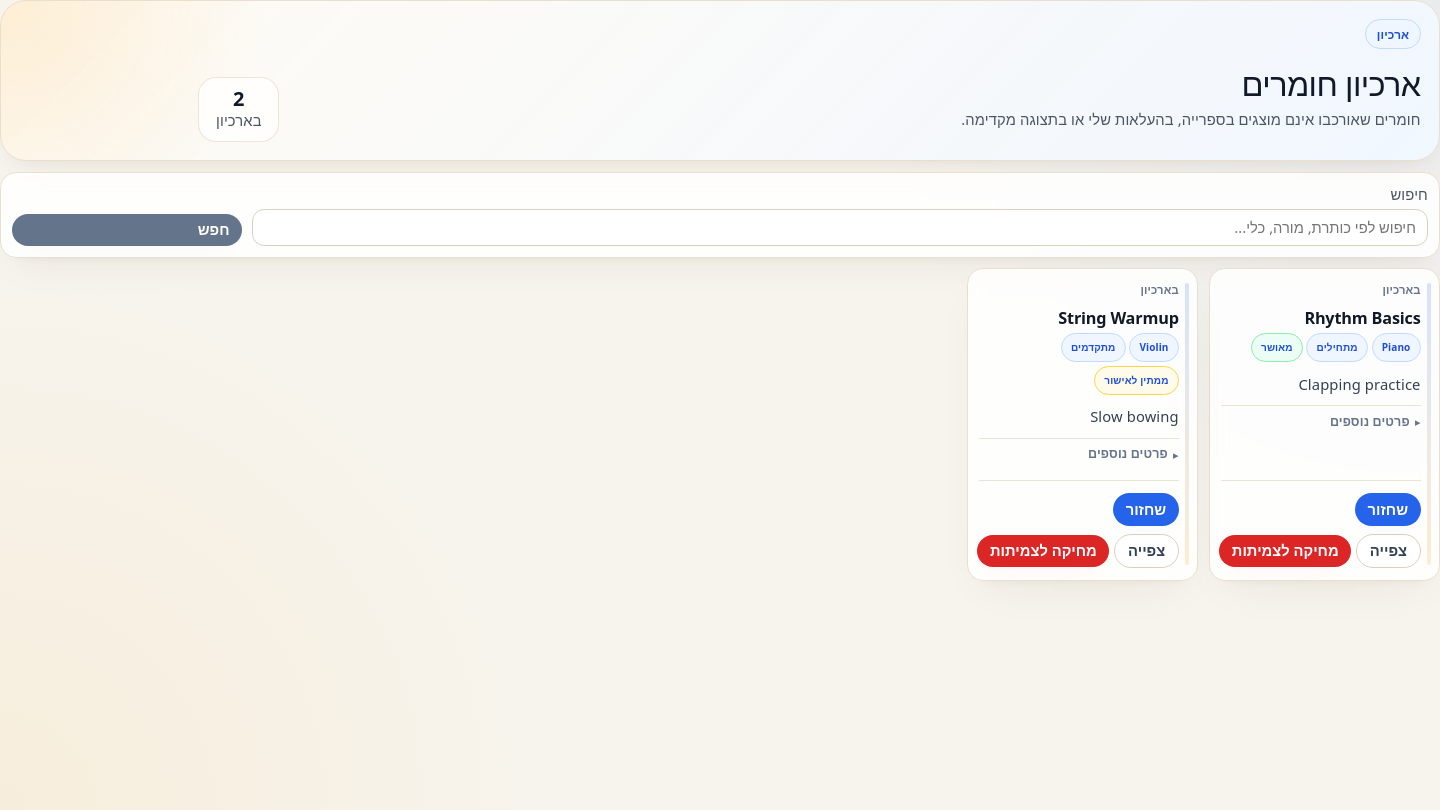
AdminArchivedMaterialsPage › shows API errors when restore fails
Expected: the heading "Rhythm Basics" is shown, [1304,306,1421,328]
Click the button "שחזור" below "Clapping practice" at (1388, 510), box [1355,493,1421,526]
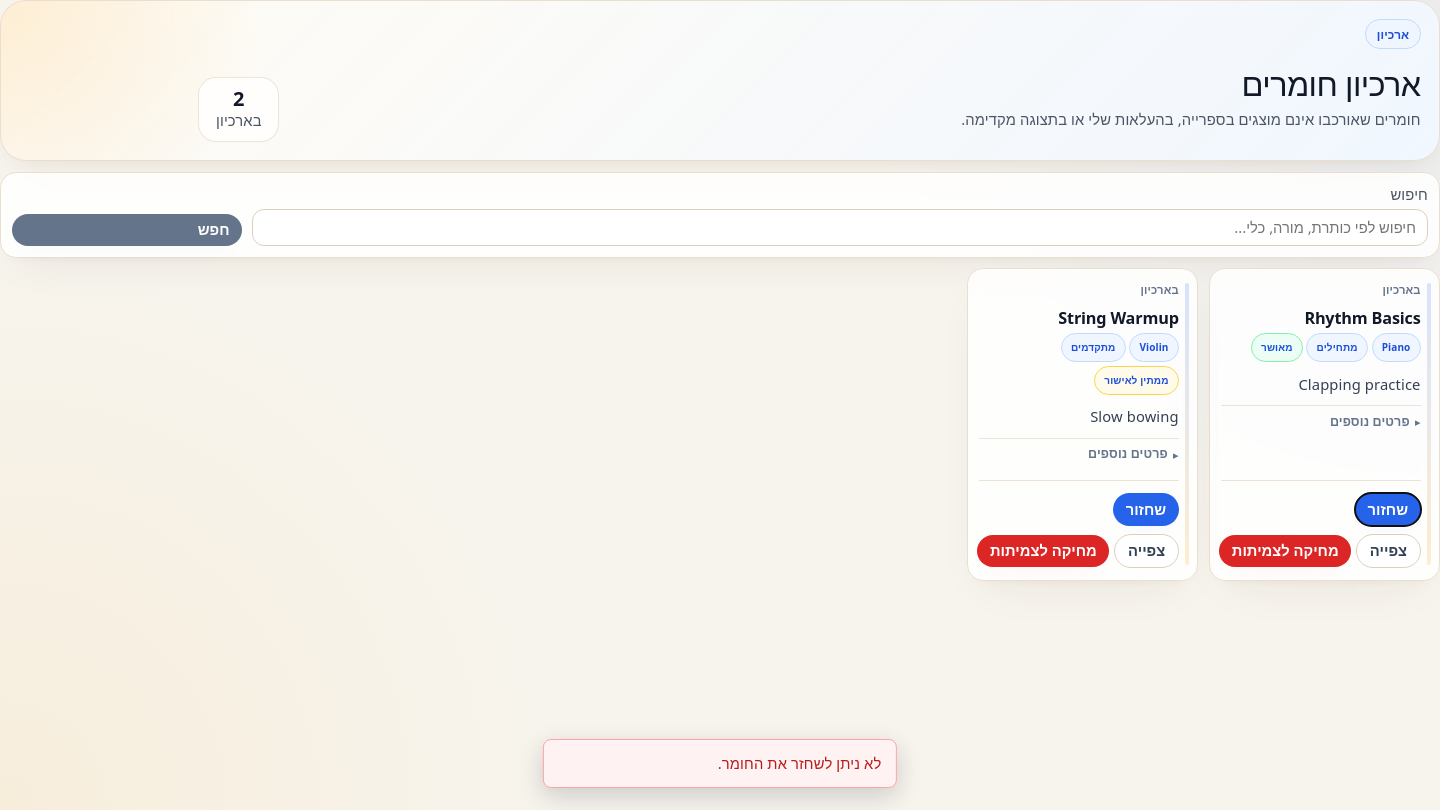
Expected: the text "לא ניתן לשחזר את החומר." is shown, [543,739,897,788]
